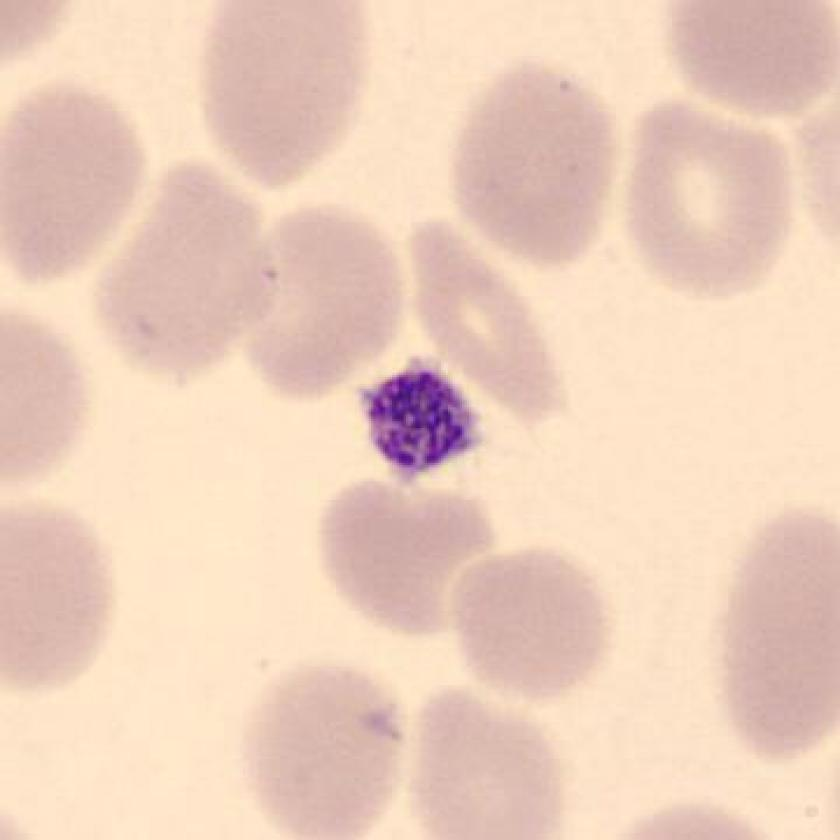platelets: (353, 350, 498, 494)
